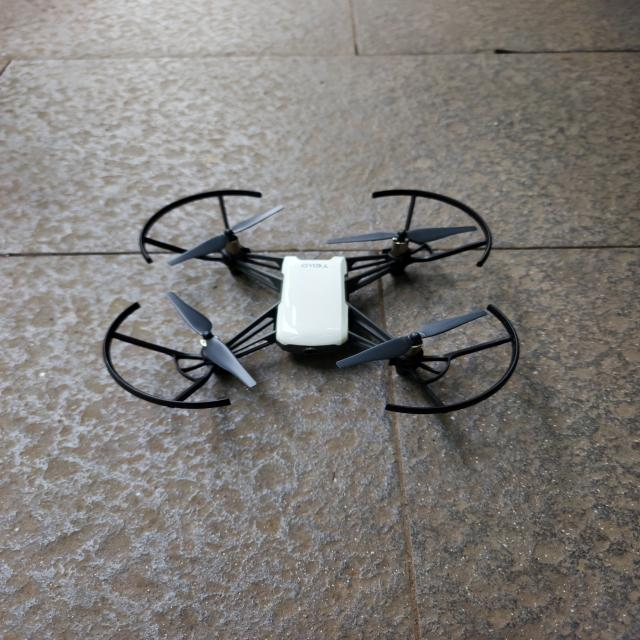drone: (92, 181, 530, 428)
